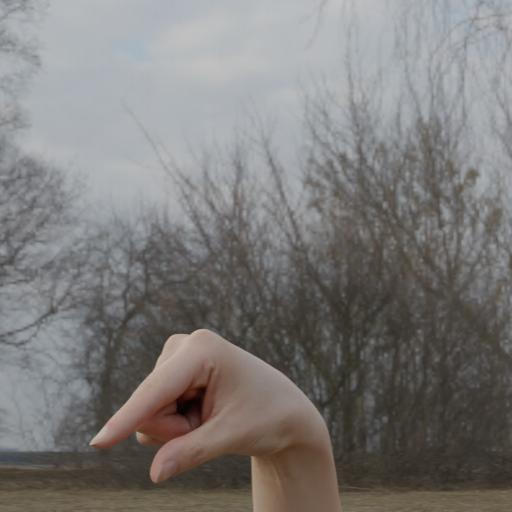Q: (89, 329, 331, 485)
